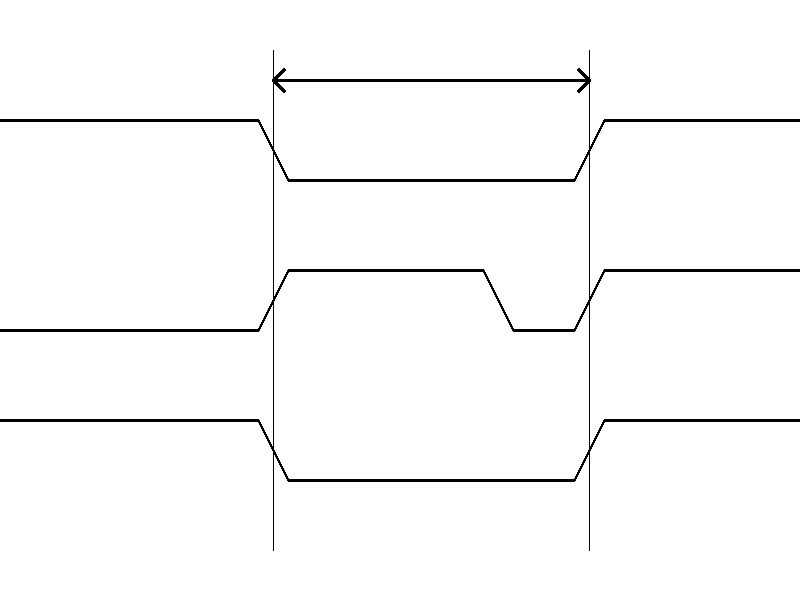double_arrow: (273, 65, 589, 95)
